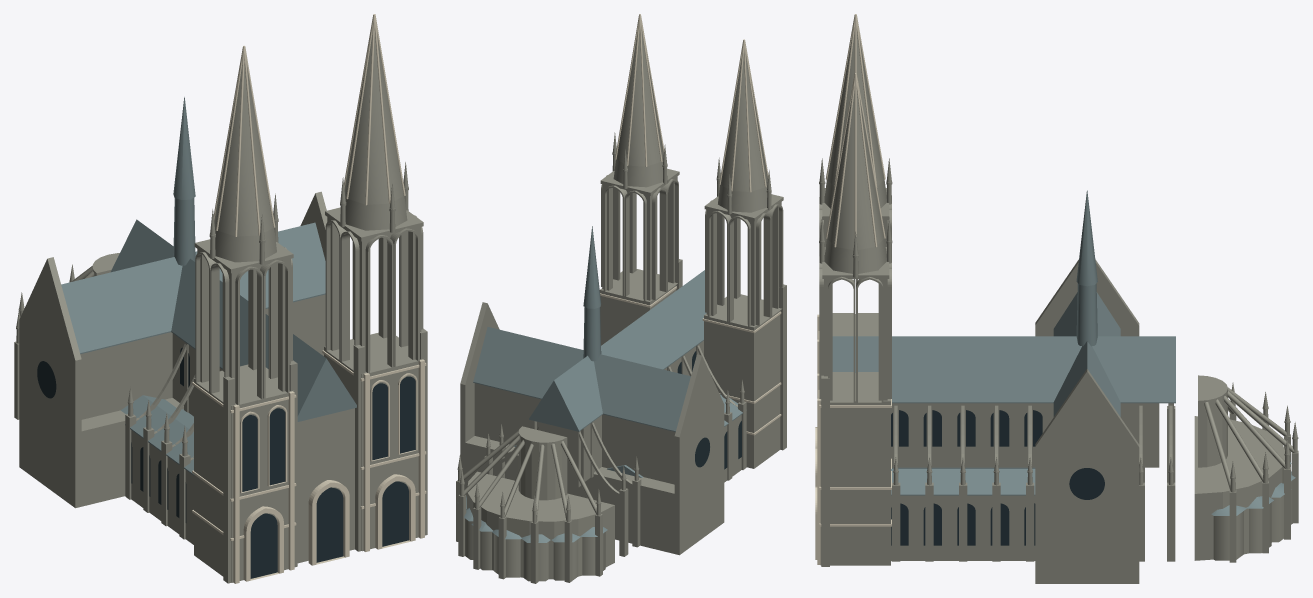
File: cologne-cathedral.glb
3 views of the same model, side by side, from view 1: azimuth 30°, elevation 25°; view 2: azimuth 150°, elevation 25°; view 3: azimuth 270°, elevation 25° (orthographic). The views are drawn at different scales.
Parts seen in each view (by area): view 1: west-belfry-opening, tower-base, transept-gable, transept-roof, tower-spire, west-belfry-pier, nave-roof, high-transept, tower-corner, west-door-recess, tower-vertical-shaft, tower-lancet (+19 smaller); view 2: tower-base, transept-roof, transept-gable, west-belfry-opening, nave-roof, tower-spire, high-transept, ambulatory, west-belfry-pier, transept, radial-chapel, apse-buttress (+18 smaller); view 3: transept-gable, nave-roof, tower-base, high-nave, tower-spire, ambulatory, five-aisle-body, outer-buttress, spire-rib, aisle-roof, west-belfry-opening, transept-roof (+20 smaller).
Part boxes in pixels (box(x1,y1,x2,y2)): west-belfry-opening: box(195, 215, 423, 404); tower-base: box(194, 336, 424, 582); transept-gable: box(19, 191, 327, 508); transept-roof: box(61, 222, 325, 354); tower-spire: box(214, 31, 403, 236); west-belfry-pier: box(197, 217, 421, 403); nave-roof: box(111, 219, 356, 421); high-transept: box(80, 294, 325, 419); tower-corner: box(223, 328, 427, 583); west-door-recess: box(250, 481, 408, 578); tower-vertical-shaft: box(233, 359, 424, 583); tower-lancet: box(242, 376, 415, 491); tower-base: box(599, 269, 780, 468); transept-roof: box(473, 327, 690, 431); transept-gable: box(460, 302, 724, 555); west-belfry-opening: box(601, 175, 783, 326); nave-roof: box(529, 270, 706, 431); tower-spire: box(616, 30, 767, 191); high-transept: box(474, 383, 675, 484); ambulatory: box(467, 471, 614, 579); west-belfry-pier: box(602, 176, 781, 325); transept: box(462, 436, 677, 553); radial-chapel: box(465, 518, 605, 581); apse-buttress: box(456, 480, 602, 583); transept-gable: box(1035, 259, 1139, 583); nave-roof: box(832, 336, 1175, 403); tower-base: box(820, 314, 890, 565); high-nave: box(891, 403, 1159, 467); tower-spire: box(827, 30, 883, 249); ambulatory: box(1194, 416, 1284, 560); five-aisle-body: box(891, 495, 1035, 560); outer-buttress: box(891, 406, 1175, 561); spire-rib: box(825, 14, 885, 247); aisle-roof: box(891, 467, 1035, 495); west-belfry-opening: box(819, 197, 891, 402); transept-roof: box(1053, 292, 1120, 416).
Size of the model in its own units: 9.78 by 17.47 by 16.
